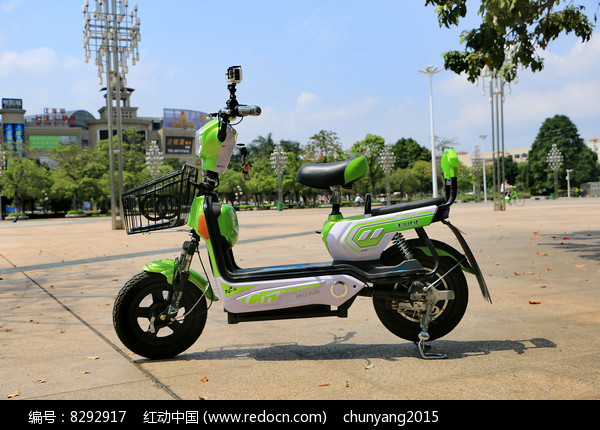MNV: (112, 102, 476, 361)
